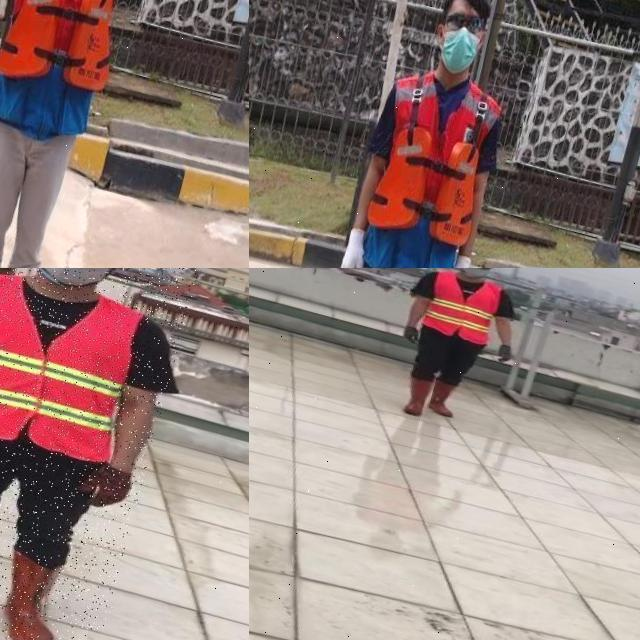boots: (0, 542, 77, 640), (396, 371, 438, 419), (425, 378, 463, 420)
vest: (344, 59, 506, 268), (0, 268, 148, 463), (0, 0, 143, 144), (419, 268, 506, 348)
